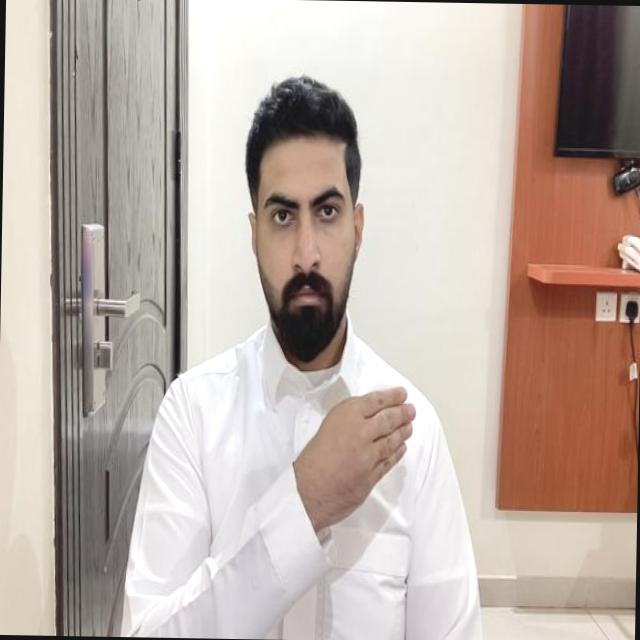result: (291, 382, 416, 534)
